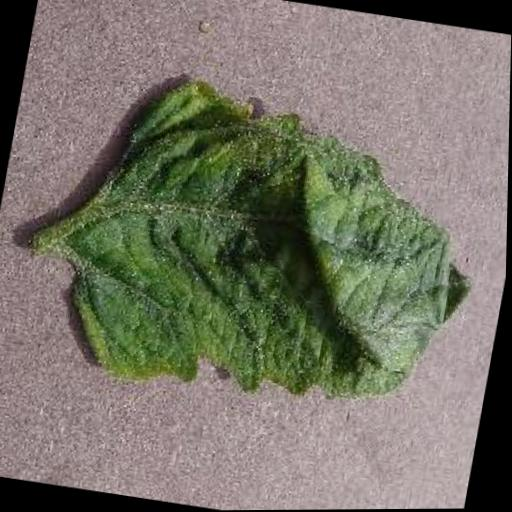Yellow Leaf Curl Virus: (56, 58, 499, 426)
